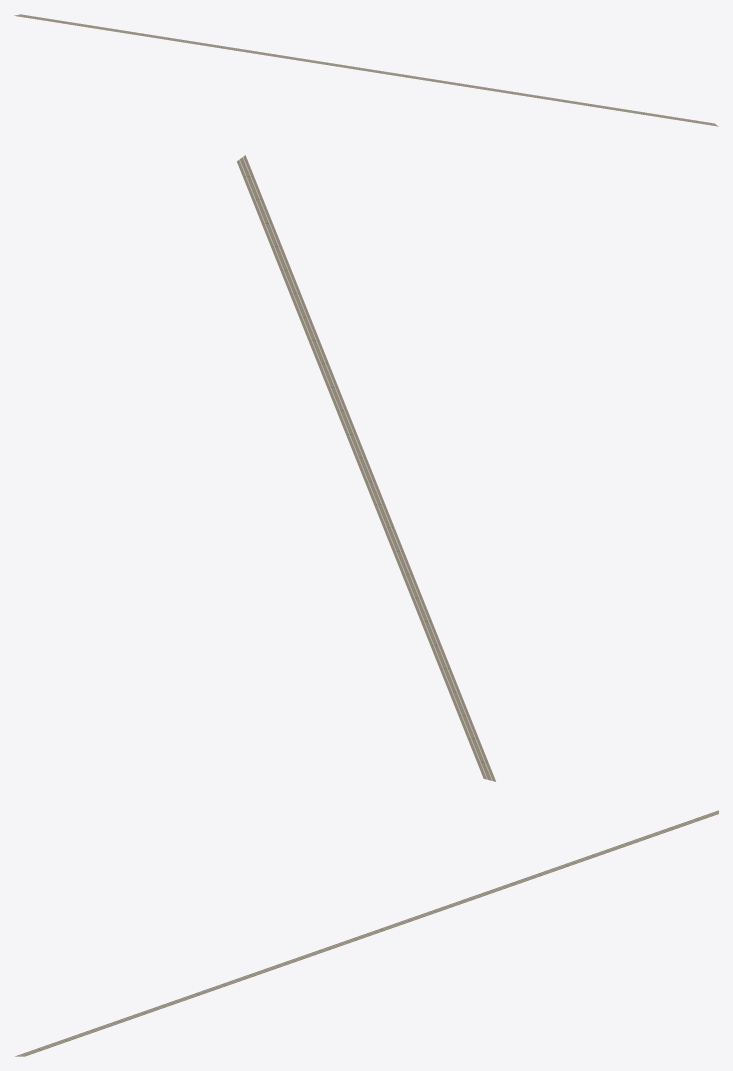
3 views of the same model, one above another, from view 1: azimuth 30°, elevation 25°; view 2: azimuth 150°, elevation 25°; view 3: azimuth 270°, elevation 25° (orthographic). The views are drawn at different scales.
Visible parts, largest first — view 1: rail; view 2: rail; view 3: rail.
Boxes of the visible parts, <box> form: rail: <box>14,14,718,126</box>; rail: <box>237,155,495,781</box>; rail: <box>15,810,718,1056</box>.
Bounding box in the file's own units: 307 × 0.04 × 371.
